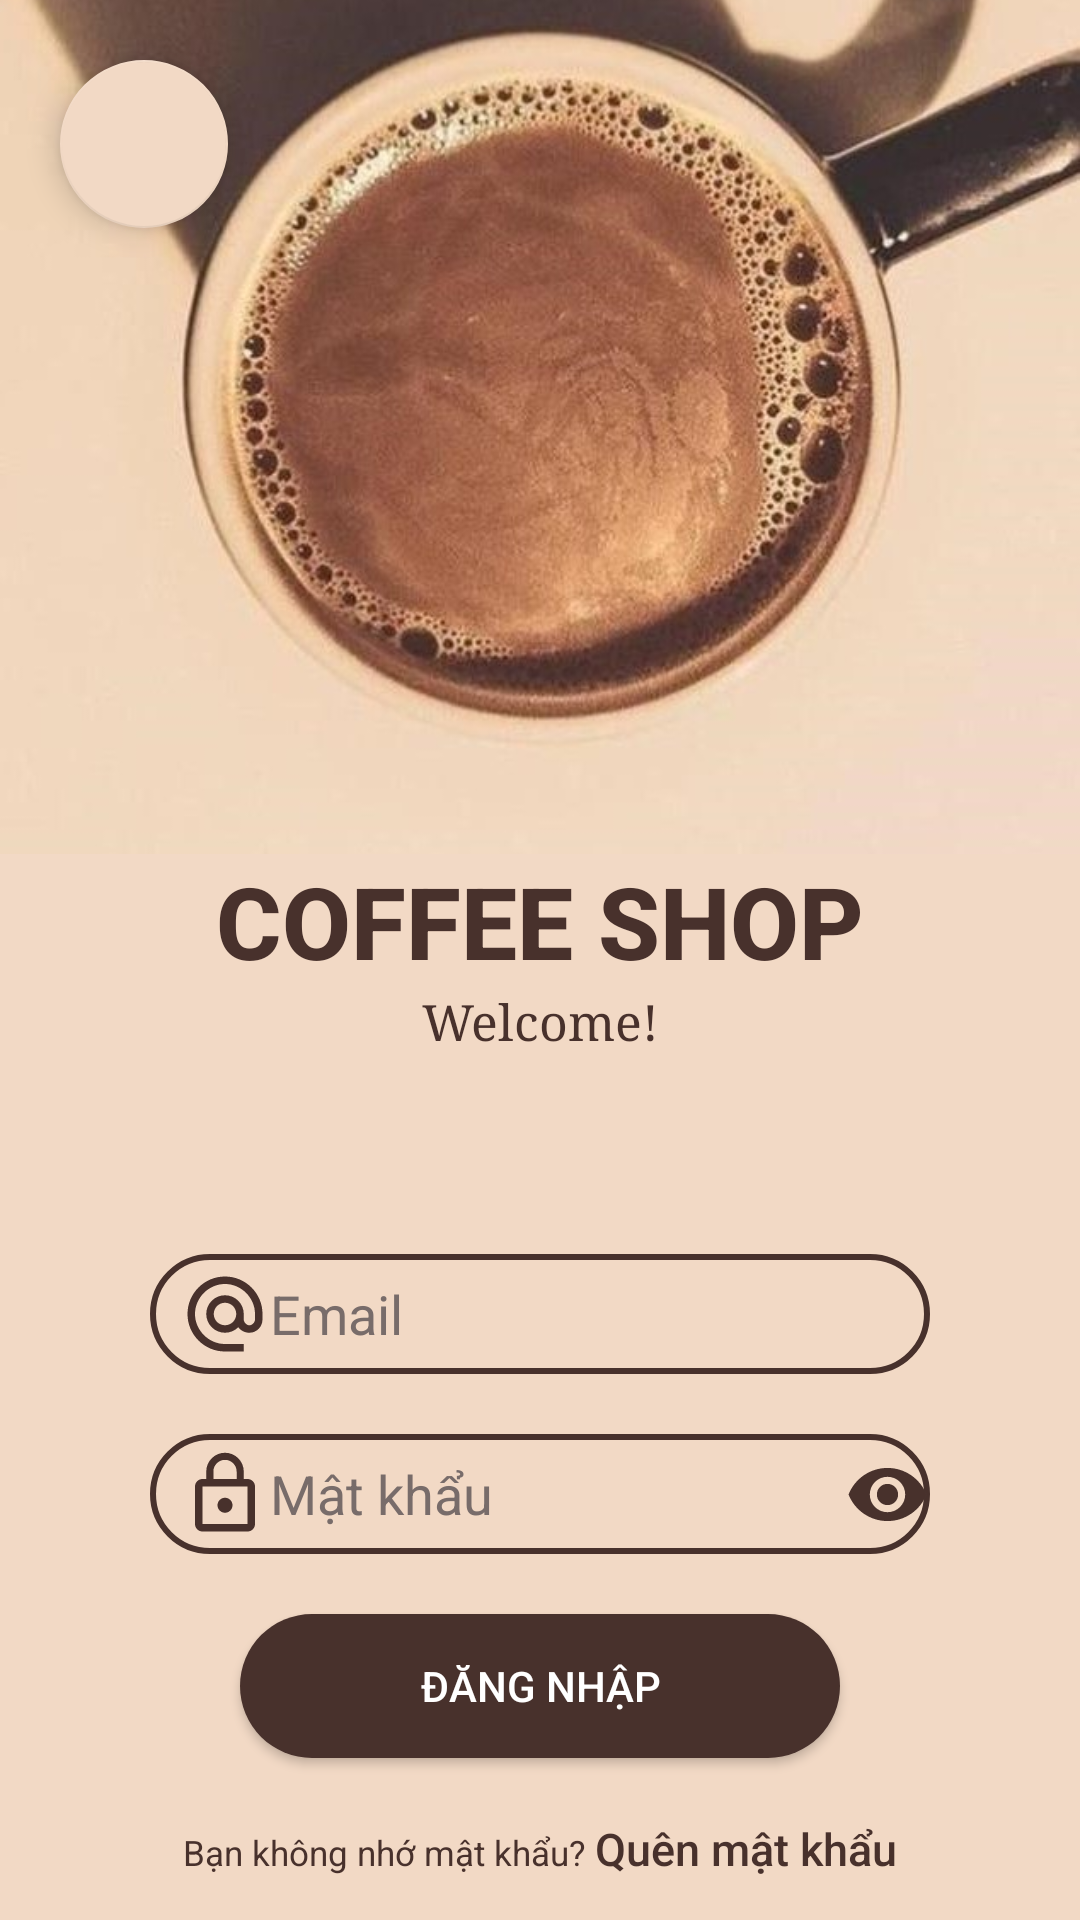

Icons on this 1080 × 1920 Android screen, each with the point to tap as point (x, y):
lock: point (225, 1492)
